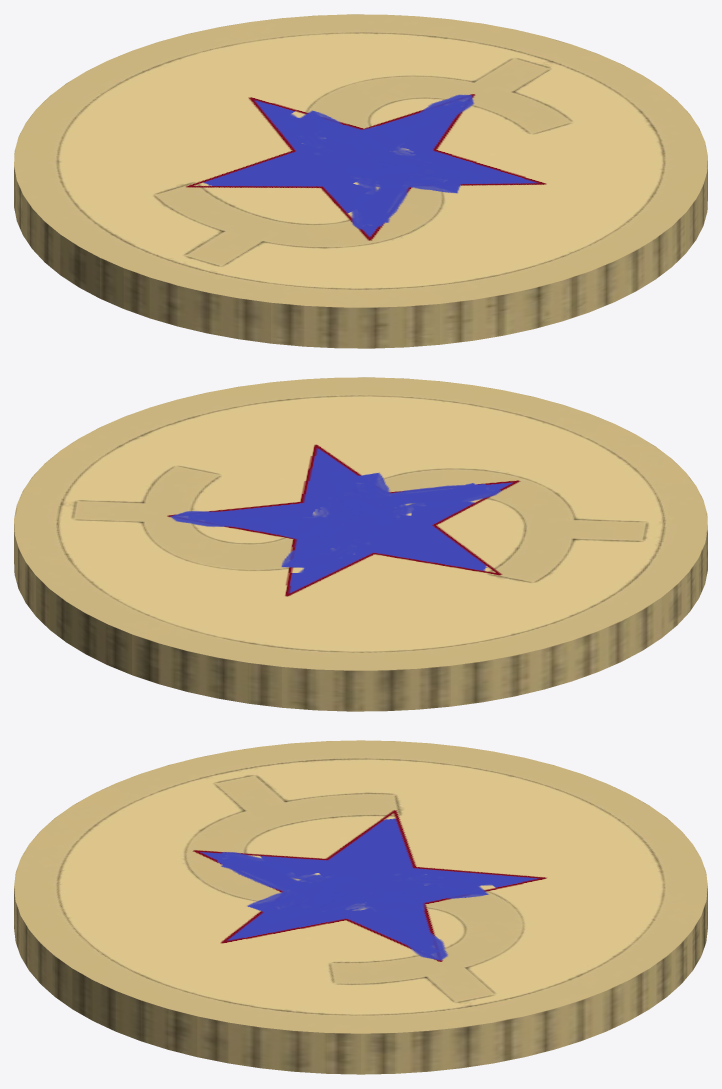
Rendered from Coin.fbx.
3 renders of one model, top to bottom at view 1: azimuth 30°, elevation 25°; view 2: azimuth 150°, elevation 25°; view 3: azimuth 270°, elevation 25°, orthographic.
Visible parts, largest first — view 1: Cylinder; view 2: Cylinder; view 3: Cylinder.
Boxes of the visible parts, <box> form: Cylinder: <box>14,14,707,348</box>; Cylinder: <box>14,377,707,711</box>; Cylinder: <box>14,740,707,1074</box>.
Bounding box in the file's own units: 200 × 13 × 200.
